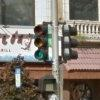Traffic light: (19, 16, 85, 67)
